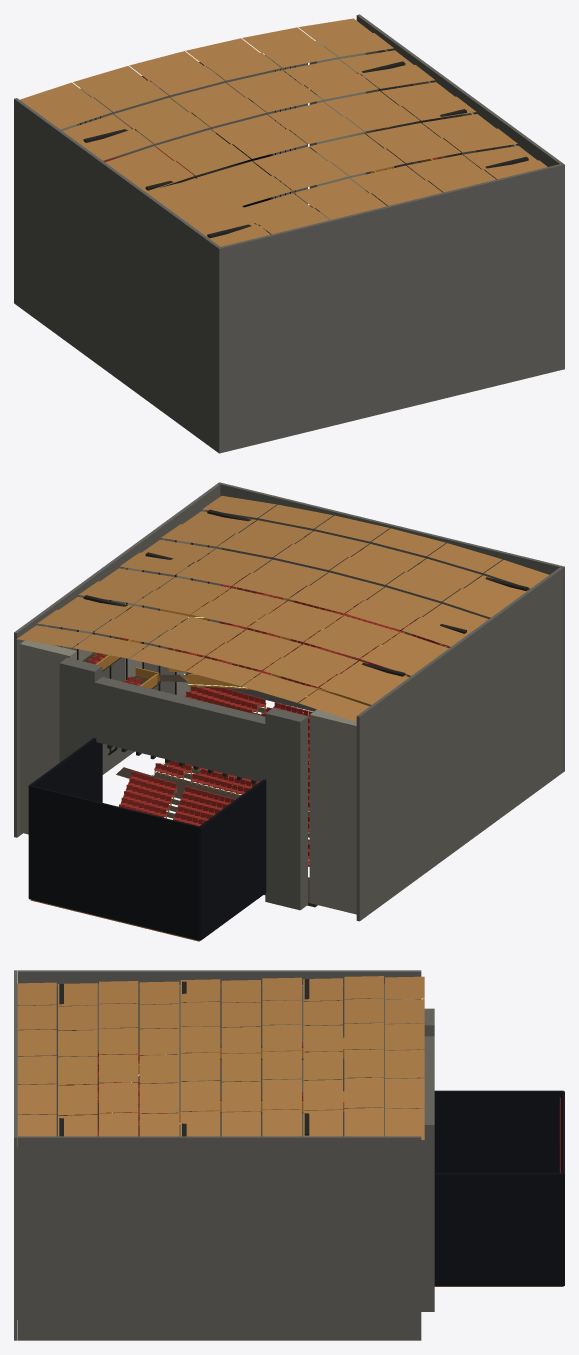
Rendered from shenzhen-poly-theatre-interior.glb.
The picture shows the model from 3 angles, top to bottom: view 1: azimuth 30°, elevation 25°; view 2: azimuth 150°, elevation 25°; view 3: azimuth 270°, elevation 25°; orthographic projection.
Visible parts, largest first — view 1: Auditorium_Walls_Batched, Ceiling_Batched (×2), Architecture_Batched (×2); view 2: Architecture_Batched (×5), Ceiling_Batched (×2), Auditorium_Walls_Batched (×2); view 3: Auditorium_Walls_Batched (×2), Ceiling_Batched (×2), Architecture_Batched (×3).
Boxes of the visible parts, x1,y1,x2,y2 form: Auditorium_Walls_Batched: (14, 14, 564, 453); Ceiling_Batched (×2): (20, 18, 547, 246); Architecture_Batched (×2): (60, 41, 365, 234); Architecture_Batched (×5): (20, 597, 448, 940); Ceiling_Batched (×2): (16, 496, 548, 721); Auditorium_Walls_Batched (×2): (14, 482, 564, 921); Auditorium_Walls_Batched (×2): (14, 970, 421, 1340); Ceiling_Batched (×2): (17, 976, 424, 1146); Architecture_Batched (×3): (98, 1008, 564, 1311).
Size of the model in its own units: 33.6 by 19.6 by 46.75.
